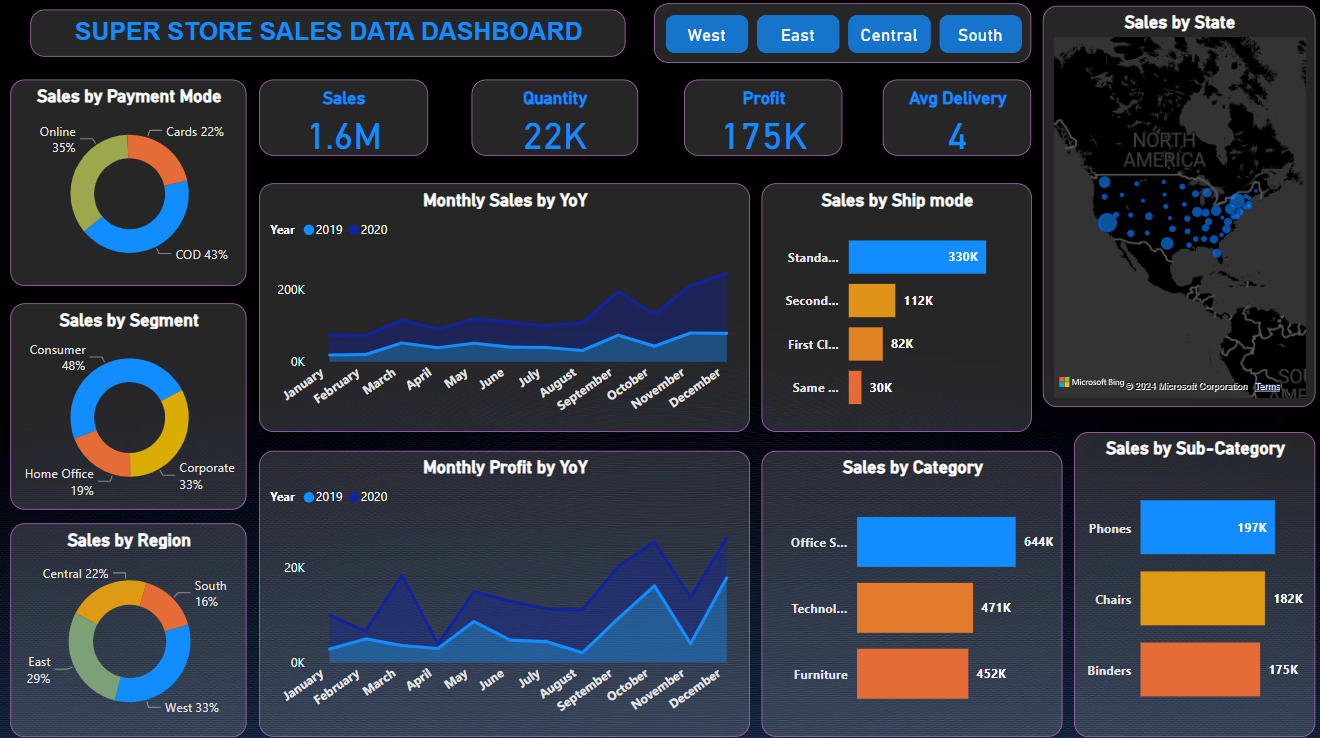

The page's visual inventory and layout, read from the dashboard file:
{"tool":"powerbi","page":{"name":"Dashboard","canvas":[1280,720],"ordinal":0},"visuals":[{"type":"clusteredBarChart","title":"Sales by Sub-Category","fields":{"Y":["Sum(SuperStore_Sales_Dataset.Sales)"],"Category":["SuperStore_Sales_Dataset.Sub-Category"]},"box":[1037.2,419.7,232.8,294.3],"z":0},{"type":"clusteredBarChart","title":"Sales by Ship mode","fields":{"Y":["Sum(SuperStore_Sales_Dataset.Sales)"],"Category":["SuperStore_Sales_Dataset.Ship Mode"]},"box":[735.7,179.7,260.5,240],"z":1000},{"type":"clusteredBarChart","title":"Sales by Category","fields":{"Y":["Sum(SuperStore_Sales_Dataset.Sales)"],"Category":["SuperStore_Sales_Dataset.Category"]},"box":[735.7,437.8,290.7,276.2],"z":2000},{"type":"stackedAreaChart","title":"Monthly Sales by YoY","fields":{"Y":["Sum(SuperStore_Sales_Dataset.Sales)"],"Category":["SuperStore_Sales_Dataset.Order Date.Variation.Date Hierarchy.Month"],"Series":["SuperStore_Sales_Dataset.Order Date.Variation.Date Hierarchy.Year"]},"box":[250.9,179.7,474,240],"z":3000},{"type":"stackedAreaChart","title":"Monthly Profit by YoY","fields":{"Category":["SuperStore_Sales_Dataset.Order Date.Variation.Date Hierarchy.Month"],"Series":["SuperStore_Sales_Dataset.Order Date.Variation.Date Hierarchy.Year"],"Y":["Sum(SuperStore_Sales_Dataset.Profit)"]},"box":[250.9,437.8,474,276.2],"z":4000},{"type":"map","title":"Sales by State","fields":{"Category":["SuperStore_Sales_Dataset.State"],"Size":["Sum(SuperStore_Sales_Dataset.Sales)"]},"box":[1007,8.4,262.9,387.1],"z":5000},{"type":"donutChart","title":"Sales by Segment","fields":{"Category":["SuperStore_Sales_Dataset.Segment"],"Y":["Sum(SuperStore_Sales_Dataset.Sales)"]},"box":[10.9,295.5,227.9,199],"z":6000},{"type":"donutChart","title":"Sales by Payment Mode","fields":{"Y":["Sum(SuperStore_Sales_Dataset.Sales)"],"Category":["SuperStore_Sales_Dataset.Payment Mode"]},"box":[10.9,79.6,227.9,199],"z":7000},{"type":"advancedSlicerVisual","title":"Sales by Region","fields":{"Values":["SuperStore_Sales_Dataset.Region"]},"box":[632,6,364.2,57.9],"z":8000},{"type":"donutChart","title":"Sales by Region","fields":{"Category":["SuperStore_Sales_Dataset.Region"],"Y":["Sum(SuperStore_Sales_Dataset.Sales)"]},"box":[10.9,507.7,227.9,206.2],"z":9000},{"type":"textbox","box":[30.2,12.1,574.1,45.8],"z":10000},{"type":"card","title":"Sales","fields":{"Values":["Sum(SuperStore_Sales_Dataset.Sales)"]},"box":[250.9,79.6,162.8,73.6],"z":11000},{"type":"card","title":"Quantity","fields":{"Values":["Sum(SuperStore_Sales_Dataset.Quantity)"]},"box":[455.9,79.6,160.4,73.6],"z":12000},{"type":"card","title":"Avg Delivery","fields":{"Values":["Avg(SuperStore_Sales_Dataset.AvgDelivery)"]},"box":[852.7,79.6,143.5,73.6],"z":13000},{"type":"card","title":"Profit","fields":{"Values":["Sum(SuperStore_Sales_Dataset.Profit)"]},"box":[660.9,79.6,153.2,73.6],"z":14000}]}

Visuals, with their boxes in screenshot pixels (x1, y1, x2, y2), scaled from the page's 1280x720 canvas onto the 1320x738 screenshot:
"Sales by Sub-Category" clusteredBarChart: {"x1": 1070, "y1": 430, "x2": 1310, "y2": 732}
"Sales by Ship mode" clusteredBarChart: {"x1": 759, "y1": 184, "x2": 1027, "y2": 430}
"Sales by Category" clusteredBarChart: {"x1": 759, "y1": 449, "x2": 1058, "y2": 732}
"Monthly Sales by YoY" stackedAreaChart: {"x1": 259, "y1": 184, "x2": 748, "y2": 430}
"Monthly Profit by YoY" stackedAreaChart: {"x1": 259, "y1": 449, "x2": 748, "y2": 732}
"Sales by State" map: {"x1": 1038, "y1": 9, "x2": 1310, "y2": 405}
"Sales by Segment" donutChart: {"x1": 11, "y1": 303, "x2": 246, "y2": 507}
"Sales by Payment Mode" donutChart: {"x1": 11, "y1": 82, "x2": 246, "y2": 286}
"Sales by Region" advancedSlicerVisual: {"x1": 652, "y1": 6, "x2": 1027, "y2": 65}
"Sales by Region" donutChart: {"x1": 11, "y1": 520, "x2": 246, "y2": 732}
textbox: {"x1": 31, "y1": 12, "x2": 623, "y2": 59}
"Sales" card: {"x1": 259, "y1": 82, "x2": 427, "y2": 157}
"Quantity" card: {"x1": 470, "y1": 82, "x2": 636, "y2": 157}
"Avg Delivery" card: {"x1": 879, "y1": 82, "x2": 1027, "y2": 157}
"Profit" card: {"x1": 682, "y1": 82, "x2": 840, "y2": 157}
